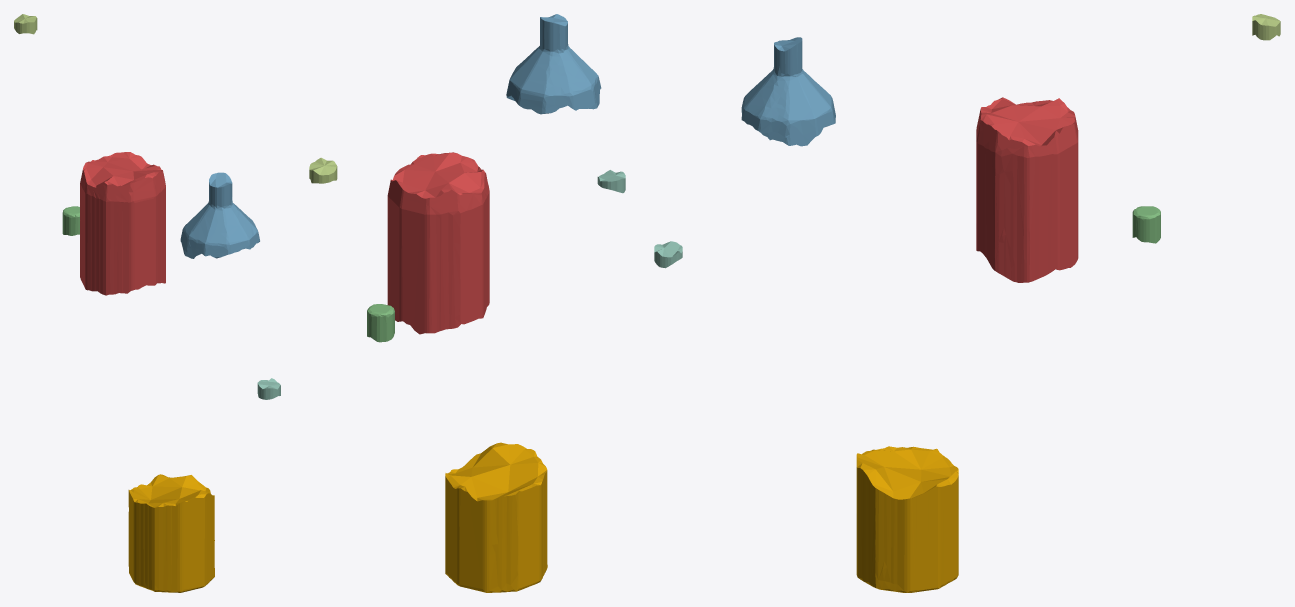
The model's file is fractured_14_6pcs_transformed.glb.
3 renders of one model, left to right at view 1: azimuth 30°, elevation 25°; view 2: azimuth 150°, elevation 25°; view 3: azimuth 270°, elevation 25°, orthographic. The views are drawn at different scales.
Visible parts, largest first — view 1: piece_1.obj, piece_0.obj, piece_2.obj, piece_3.obj, piece_4.obj, piece_5.obj; view 2: piece_1.obj, piece_0.obj, piece_2.obj, piece_3.obj, piece_5.obj, piece_4.obj; view 3: piece_1.obj, piece_0.obj, piece_2.obj, piece_3.obj.
Boxes of the visible parts, <box> form: piece_1.obj: <box>80,152,165,295</box>; piece_0.obj: <box>128,474,214,592</box>; piece_2.obj: <box>180,172,259,258</box>; piece_3.obj: <box>62,206,79,235</box>; piece_4.obj: <box>257,378,280,399</box>; piece_5.obj: <box>14,14,37,34</box>; piece_1.obj: <box>387,152,489,334</box>; piece_0.obj: <box>445,442,547,592</box>; piece_2.obj: <box>506,14,601,114</box>; piece_3.obj: <box>367,304,394,342</box>; piece_5.obj: <box>309,157,337,183</box>; piece_4.obj: <box>597,170,625,193</box>; piece_1.obj: <box>976,97,1078,282</box>; piece_0.obj: <box>856,446,958,592</box>; piece_2.obj: <box>741,37,835,146</box>; piece_3.obj: <box>1132,206,1160,243</box>.
Size of the model in its own units: 0.2657 by 1.54 by 1.57.
